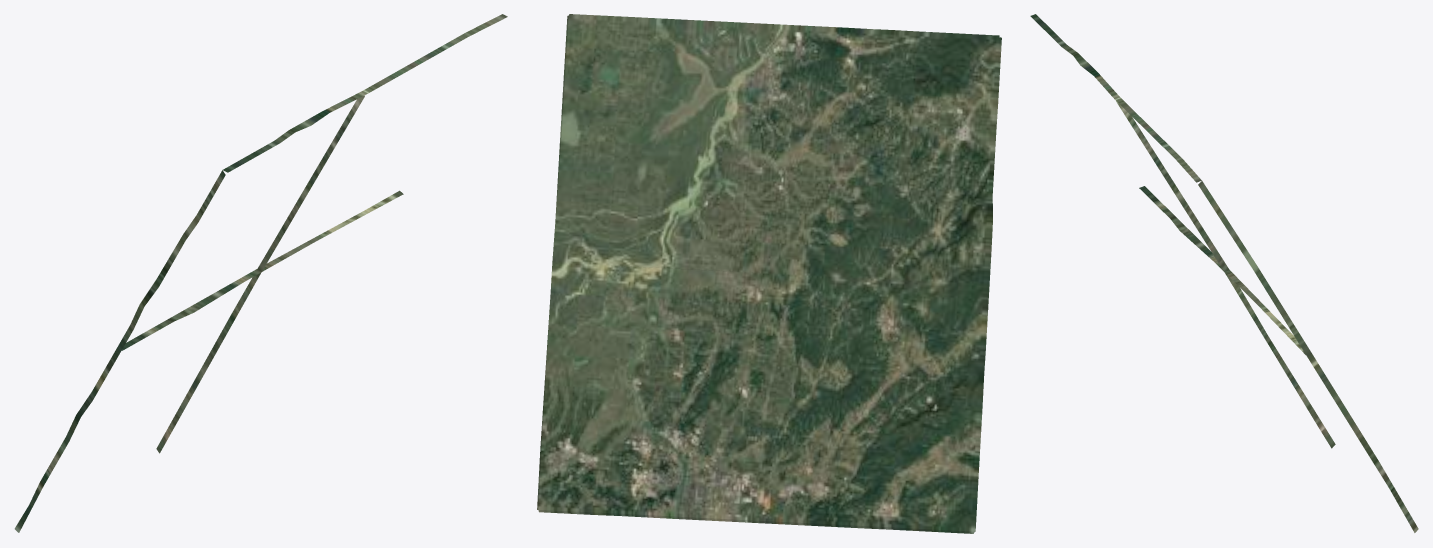
3 views of the same model, side by side, from view 1: azimuth 30°, elevation 25°; view 2: azimuth 150°, elevation 25°; view 3: azimuth 270°, elevation 25° (orthographic). The views are drawn at different scales.
Size of the model in its own units: 158292 by 139322 by 124941.
Materials: 1 (1 with a texture image).
